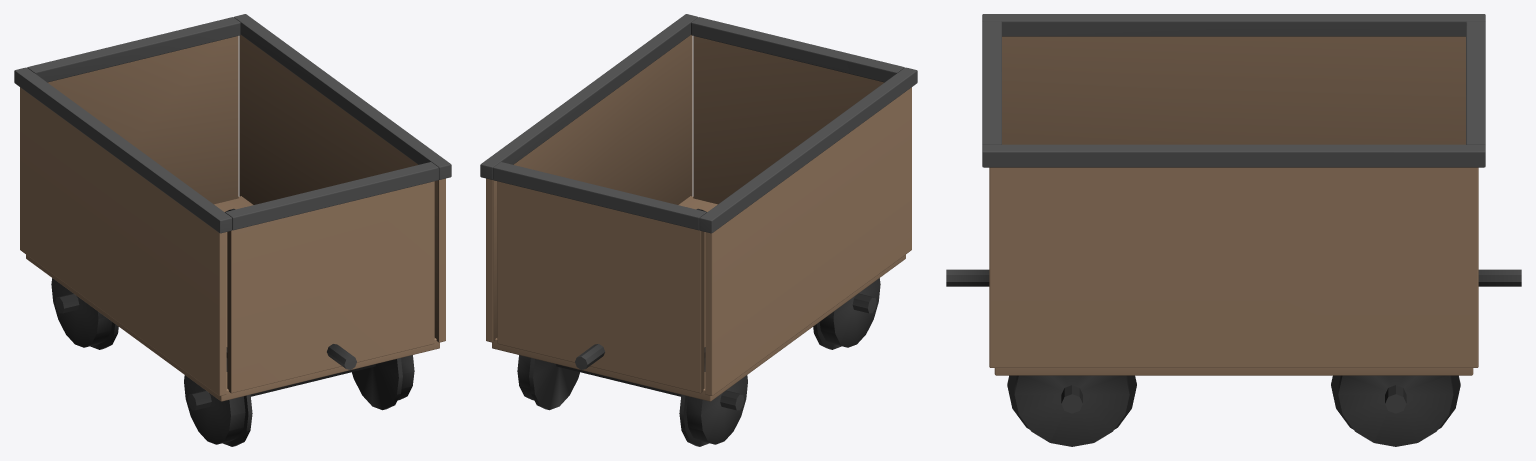
The model's file is mine_tub.glb.
The picture shows the model from 3 angles, left to right: view 1: azimuth 30°, elevation 25°; view 2: azimuth 150°, elevation 25°; view 3: azimuth 270°, elevation 25°; orthographic projection. The views are drawn at different scales.
Visible parts, largest first — view 1: static; view 2: static; view 3: static.
Part boxes in pixels (<box>): static: <box>14,14,451,446</box>; static: <box>480,14,917,446</box>; static: <box>946,14,1521,446</box>.
Bounding box in the file's own units: 0.91 × 0.97 × 1.6.
